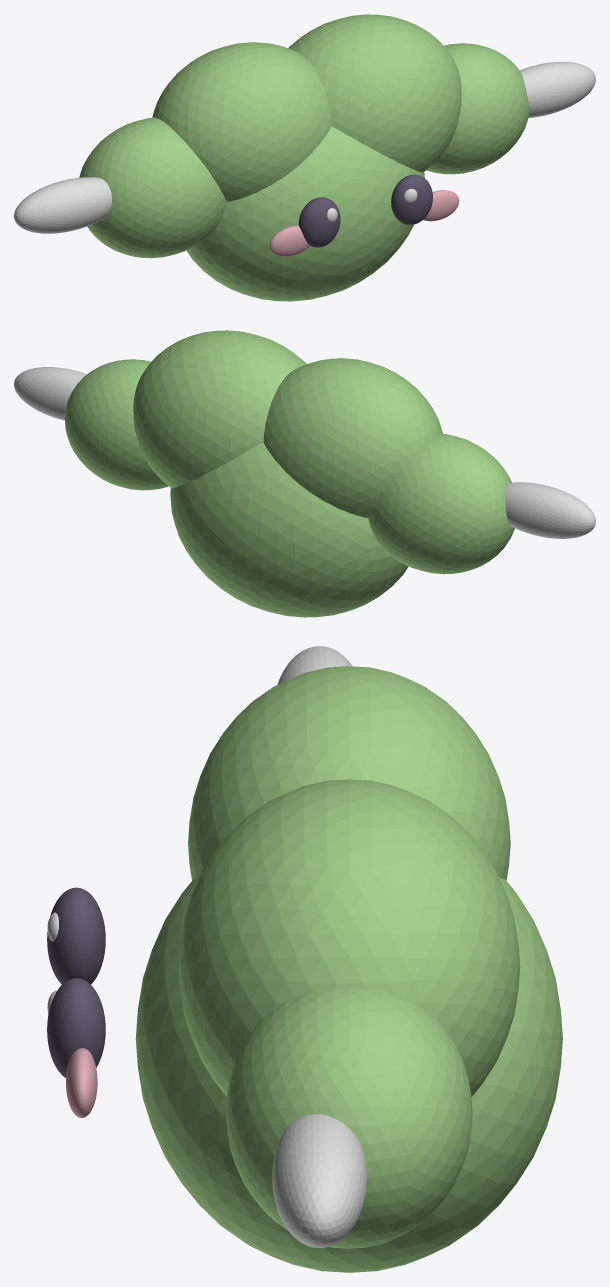
The model's file is howahowa_leaf.glb.
3 renders of one model, top to bottom at view 1: azimuth 30°, elevation 25°; view 2: azimuth 150°, elevation 25°; view 3: azimuth 270°, elevation 25°, orthographic. The views are drawn at different scales.
Visible parts, largest first — view 1: howahowa_4, howahowa_1, howahowa_2, howahowa_0, howahowa_3, howahowa_5, howahowa_6, howahowa_7, howahowa_10, howahowa_9, howahowa_12; view 2: howahowa_4, howahowa_1, howahowa_2, howahowa_0, howahowa_3, howahowa_5, howahowa_6; view 3: howahowa_2, howahowa_3, howahowa_4, howahowa_1, howahowa_6, howahowa_7, howahowa_10, howahowa_12, howahowa_5.
Part boxes in pixels (left/top/right/bottom): howahowa_4: left=186, top=126, right=424, bottom=301; howahowa_1: left=152, top=42, right=331, bottom=201; howahowa_2: left=288, top=14, right=461, bottom=172; howahowa_0: left=79, top=117, right=226, bottom=258; howahowa_3: left=426, top=43, right=528, bottom=174; howahowa_5: left=14, top=177, right=111, bottom=233; howahowa_6: left=519, top=61, right=595, bottom=117; howahowa_7: left=298, top=197, right=340, bottom=247; howahowa_10: left=391, top=174, right=432, bottom=224; howahowa_9: left=269, top=225, right=309, bottom=256; howahowa_12: left=423, top=190, right=459, bottom=221; howahowa_4: left=170, top=442, right=408, bottom=617; howahowa_1: left=263, top=358, right=442, bottom=517; howahowa_2: left=133, top=330, right=306, bottom=488; howahowa_0: left=368, top=433, right=514, bottom=574; howahowa_3: left=64, top=359, right=168, bottom=490; howahowa_5: left=505, top=482, right=595, bottom=538; howahowa_6: left=14, top=367, right=86, bottom=420; howahowa_2: left=178, top=779, right=520, bottom=1096; howahowa_3: left=226, top=986, right=472, bottom=1248; howahowa_4: left=135, top=877, right=562, bottom=1272; howahowa_1: left=188, top=666, right=510, bottom=880; howahowa_6: left=272, top=1114, right=366, bottom=1247; howahowa_7: left=47, top=887, right=105, bottom=984; howahowa_10: left=47, top=978, right=105, bottom=1077; howahowa_12: left=66, top=1048, right=97, bottom=1117; howahowa_5: left=277, top=646, right=352, bottom=684.
Bounding box in the file's own units: 2.26 × 0.9415 × 0.8695.
